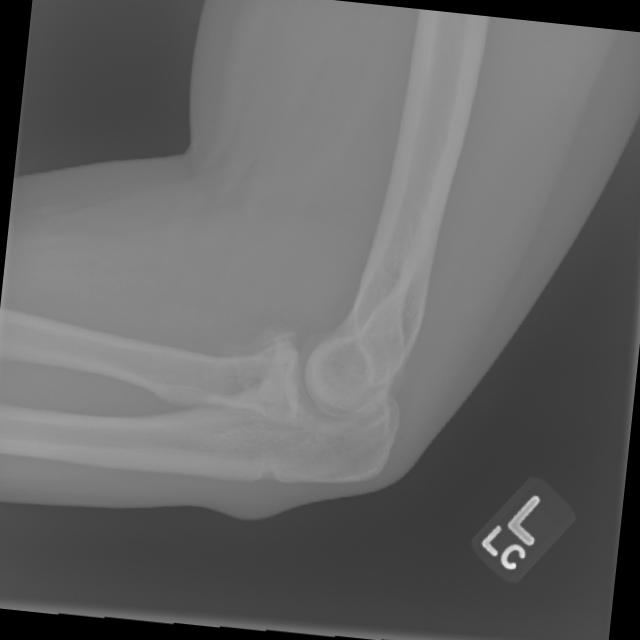elbow positive: (226, 438, 321, 504)
